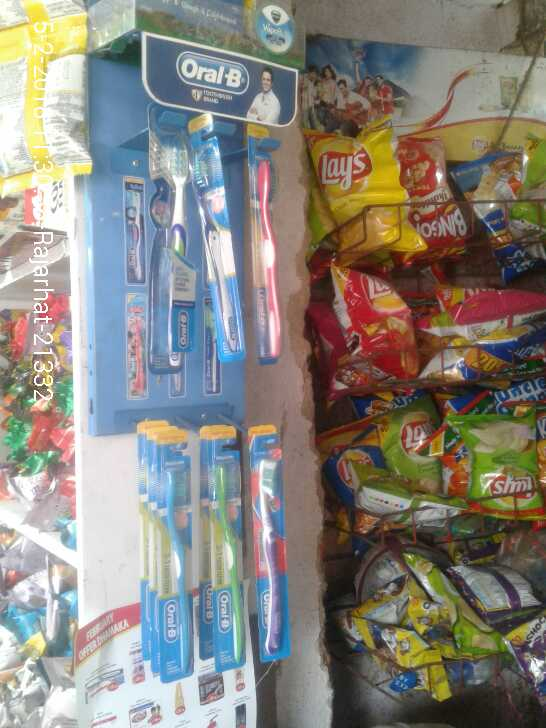pharmacy: (143, 106, 195, 377), (199, 432, 250, 676), (154, 430, 198, 678), (248, 429, 292, 657), (247, 123, 283, 365)
